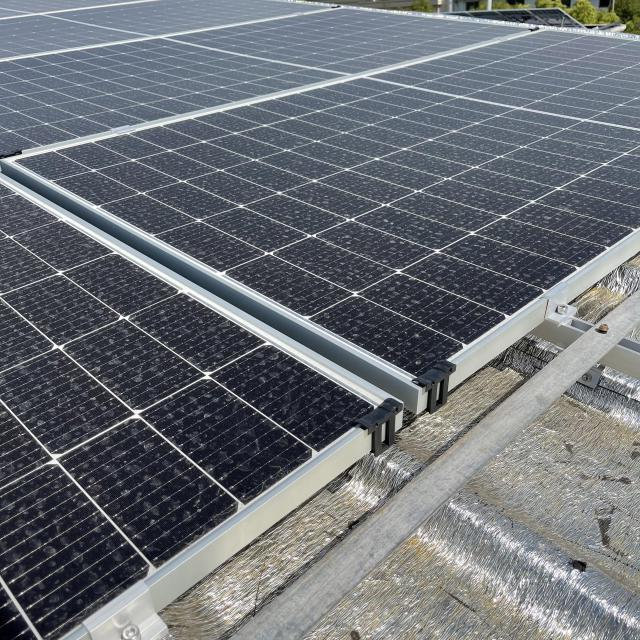soiled: (1, 2, 632, 638)
